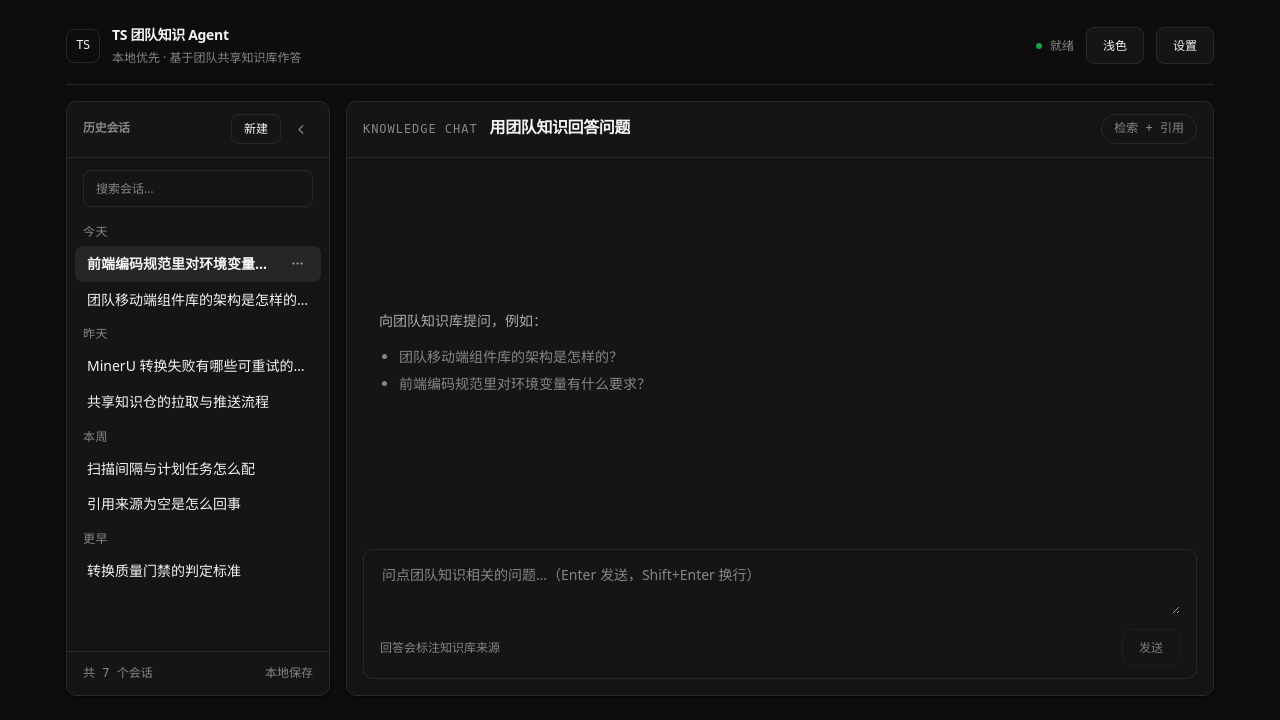
Scenario: agent chat shell › defaults to dark and toggles to light with persistence
Click the button with class "theme-toggle" at {"x": 1115, "y": 46}, box [1086,27,1144,64]
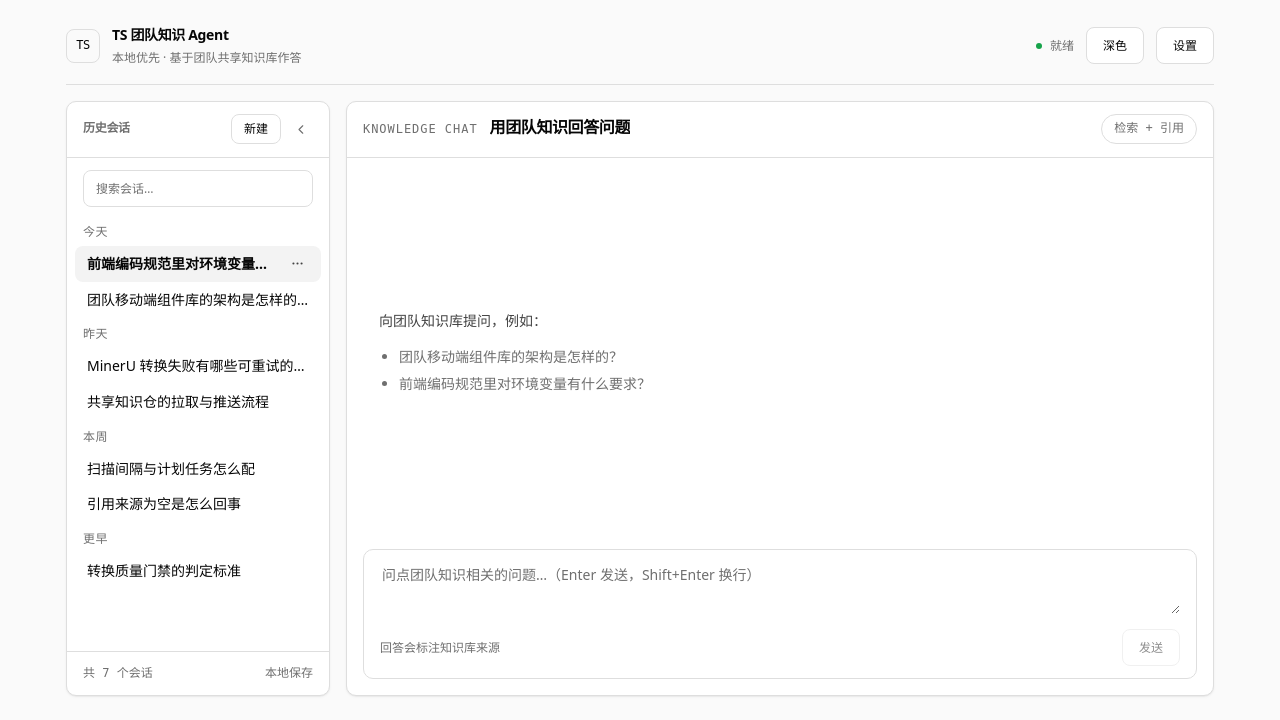
Now the button with class "theme-toggle" reads "深色", box [1086,27,1144,64]
